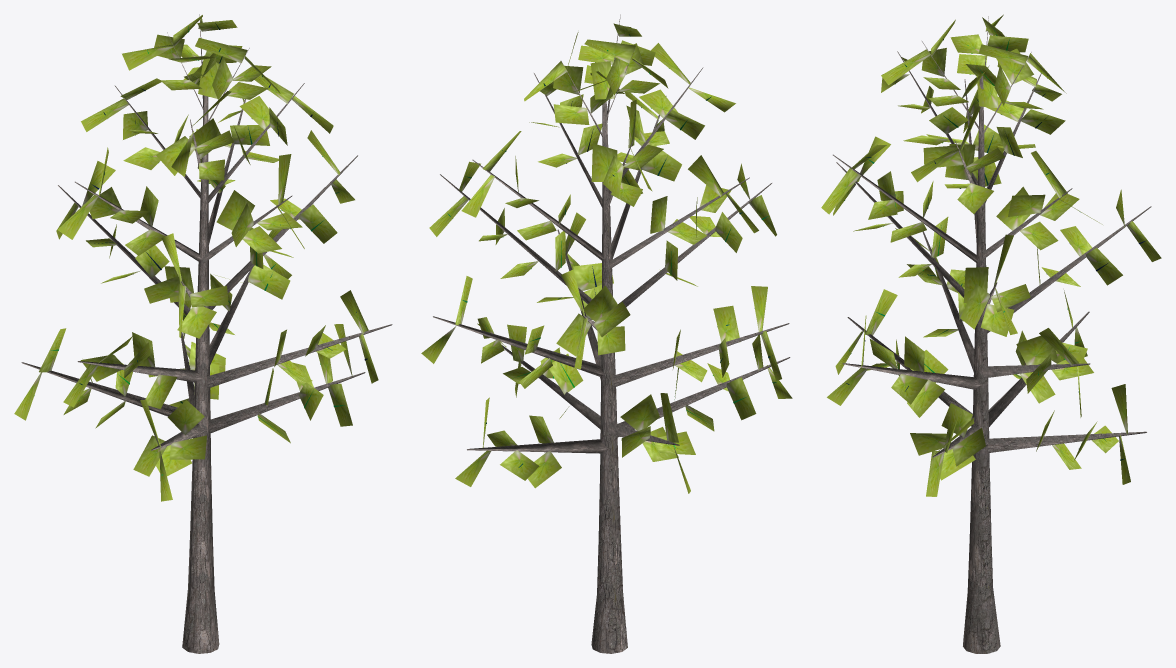
File: tree02.obj
3 renders of one model, left to right at view 1: azimuth 30°, elevation 25°; view 2: azimuth 150°, elevation 25°; view 3: azimuth 270°, elevation 25°, orthographic.
Visible parts, largest first — view 1: bark07, no texture; view 2: bark07, no texture; view 3: bark07, no texture.
Part boxes in pixels (x1,y1,x2,y2): bark07: (14,15,378,501); no texture: (21,14,392,653); bark07: (421,23,792,493); no texture: (433,14,790,653); bark07: (821,14,1161,496); no texture: (833,16,1151,653).
Size of the model in its own units: 59.45 by 108 by 53.93.
